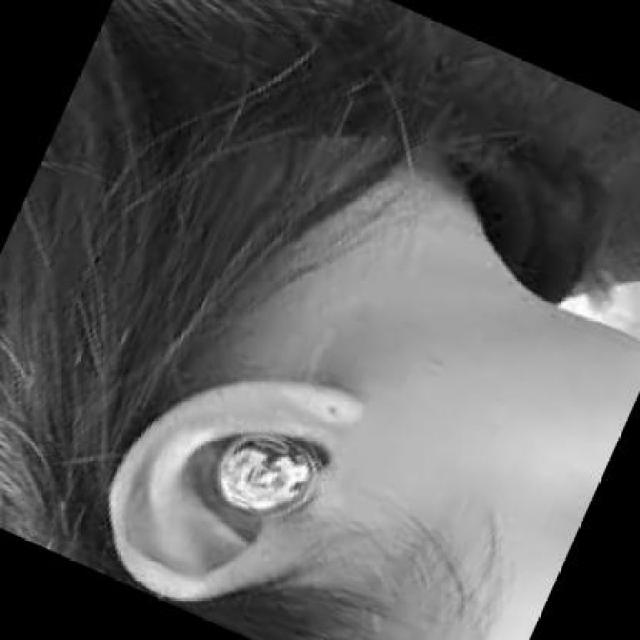earphone: (212, 421, 342, 529)
